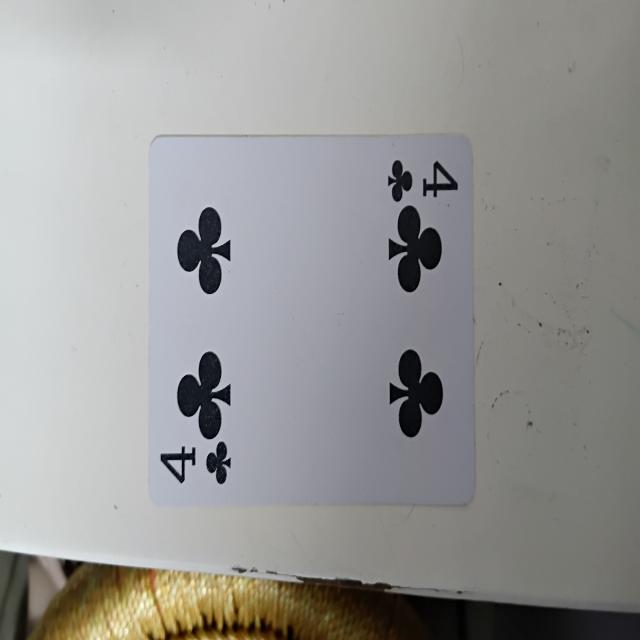4C: (149, 136, 478, 504)
